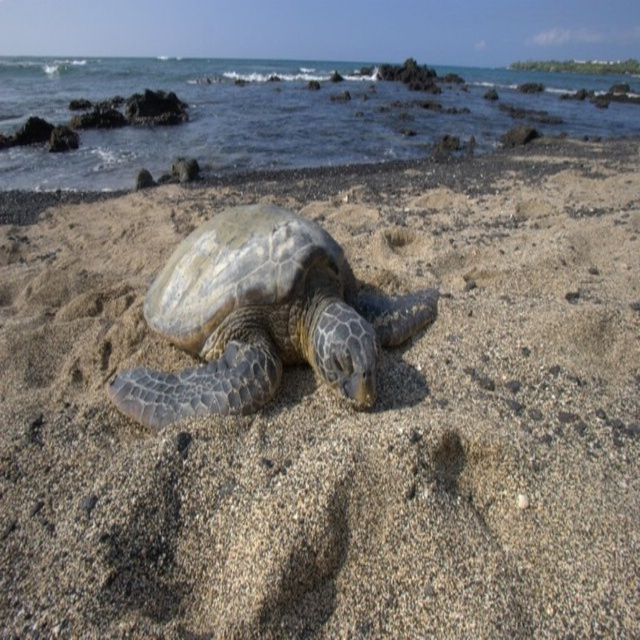Sea turtle: (109, 203, 441, 434)
